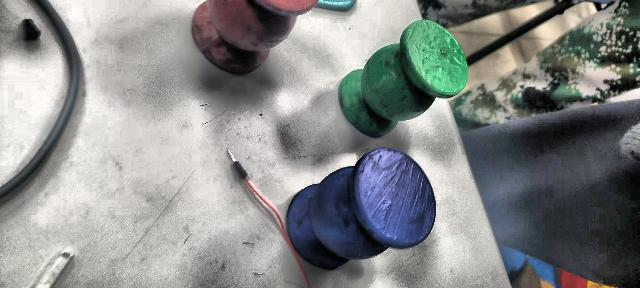blue: (286, 148, 436, 270)
green: (338, 16, 472, 141)
red: (186, 0, 324, 75)
